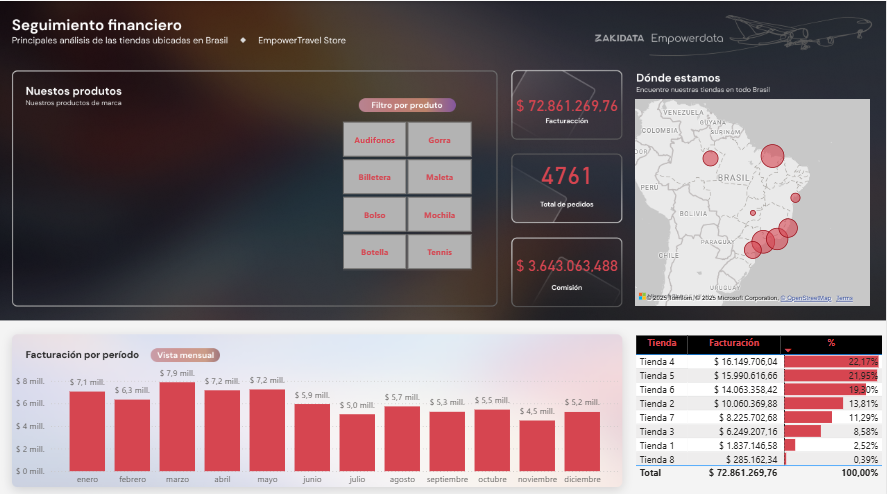

This screenshot's page, from the dashboard's own definition file:
{"tool":"powerbi","page":{"name":"Página 1","canvas":[1280,720],"ordinal":0},"visuals":[{"type":"card","fields":{"Values":["RegistroVentas.Total_facturado"]},"box":[740.2,118.1,158.4,64.8],"z":0},{"type":"card","fields":{"Values":["CountNonNull(RegistroVentas.ID)"]},"box":[740.2,216,158.4,64.8],"z":1000},{"type":"card","fields":{"Values":["RegistroVentas.Comision"]},"box":[740.2,348.5,158.4,64.8],"z":2000},{"type":"clusteredColumnChart","fields":{"Category":["RegistroVentas.Fecha_ Pedido.Variación.Jerarquía de fechas.Mes"],"Y":["RegistroVentas.Total_facturado"]},"box":[20.2,514.1,878.4,193],"z":3000},{"type":"slicer","fields":{"Values":["Productos.descripción_producto"]},"box":[470.9,167,234.7,226.1],"z":4000},{"type":"tableEx","fields":{"Values":["Tiendas.nombre_Tienda","RegistroVentas.Total_facturado","Divide(RegistroVentas.Total_facturado, ScopedEval(RegistroVentas.Total_facturado, []))"]},"box":[913,476.6,367.2,220.3],"z":5000},{"type":"map","fields":{"Category":["Tiendas.Ciudad"],"Size":["RegistroVentas.Total_facturado"]},"box":[913,136.8,348.5,308.2],"z":6000}]}

Visuals, with their boxes in screenshot pixels (x1, y1, x2, y2), scaled from the page's 1280x720 canvas onto the 887x494 screenshot:
card - RegistroVentas.Total_facturado: [513, 81, 623, 125]
card - CountNonNull(RegistroVentas.ID): [513, 148, 623, 193]
card - RegistroVentas.Comision: [513, 239, 623, 284]
clusteredColumnChart - RegistroVentas.Fecha_ Pedido.Variación.Jerarquía de fechas.Mes x RegistroVentas.Total_facturado: [14, 353, 623, 485]
slicer - Productos.descripción_producto: [326, 115, 489, 270]
tableEx - Tiendas.nombre_Tienda x RegistroVentas.Total_facturado: [633, 327, 886, 478]
map - Tiendas.Ciudad x RegistroVentas.Total_facturado: [633, 94, 874, 305]
